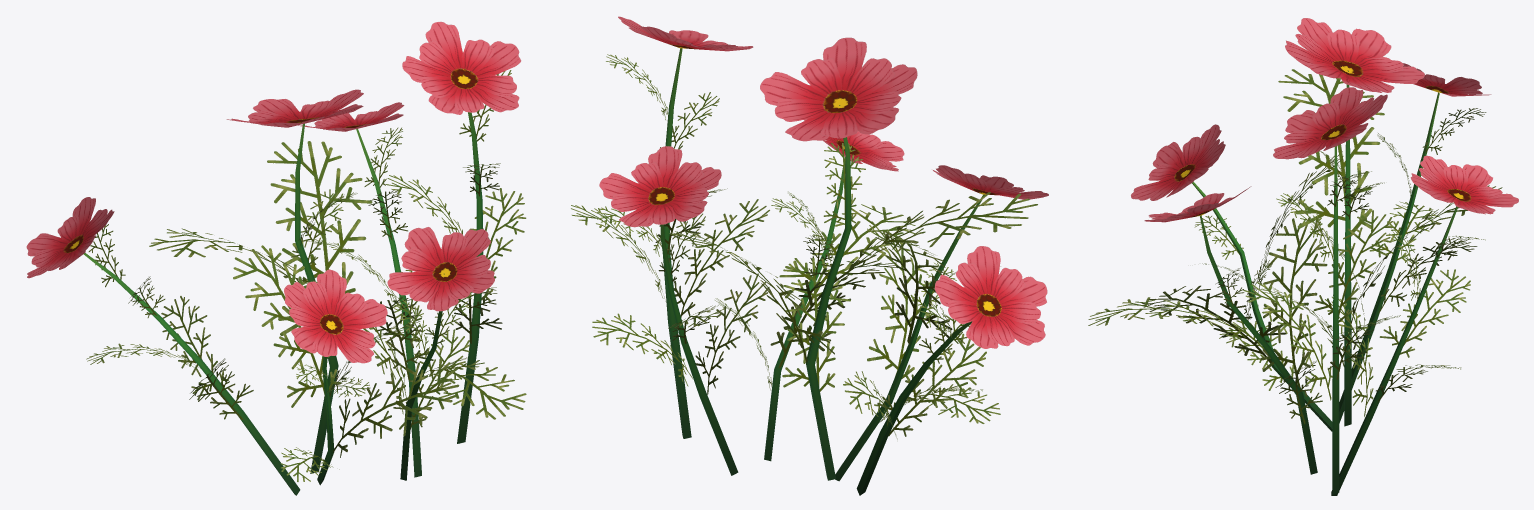
File: Pink_Flower_2.fbx
3 renders of one model, left to right at view 1: azimuth 30°, elevation 25°; view 2: azimuth 150°, elevation 25°; view 3: azimuth 270°, elevation 25°, orthographic. The views are drawn at different scales.
Parts seen in each view (by area): view 1: R2______; view 2: R2______; view 3: R2______.
Boxes of the visible parts, x1,y1,x2,y2 form: R2______: (26,21,526,495); R2______: (571,16,1048,495); R2______: (1088,18,1518,495).
Bounding box in the file's own units: 118 × 101 × 94.17.
